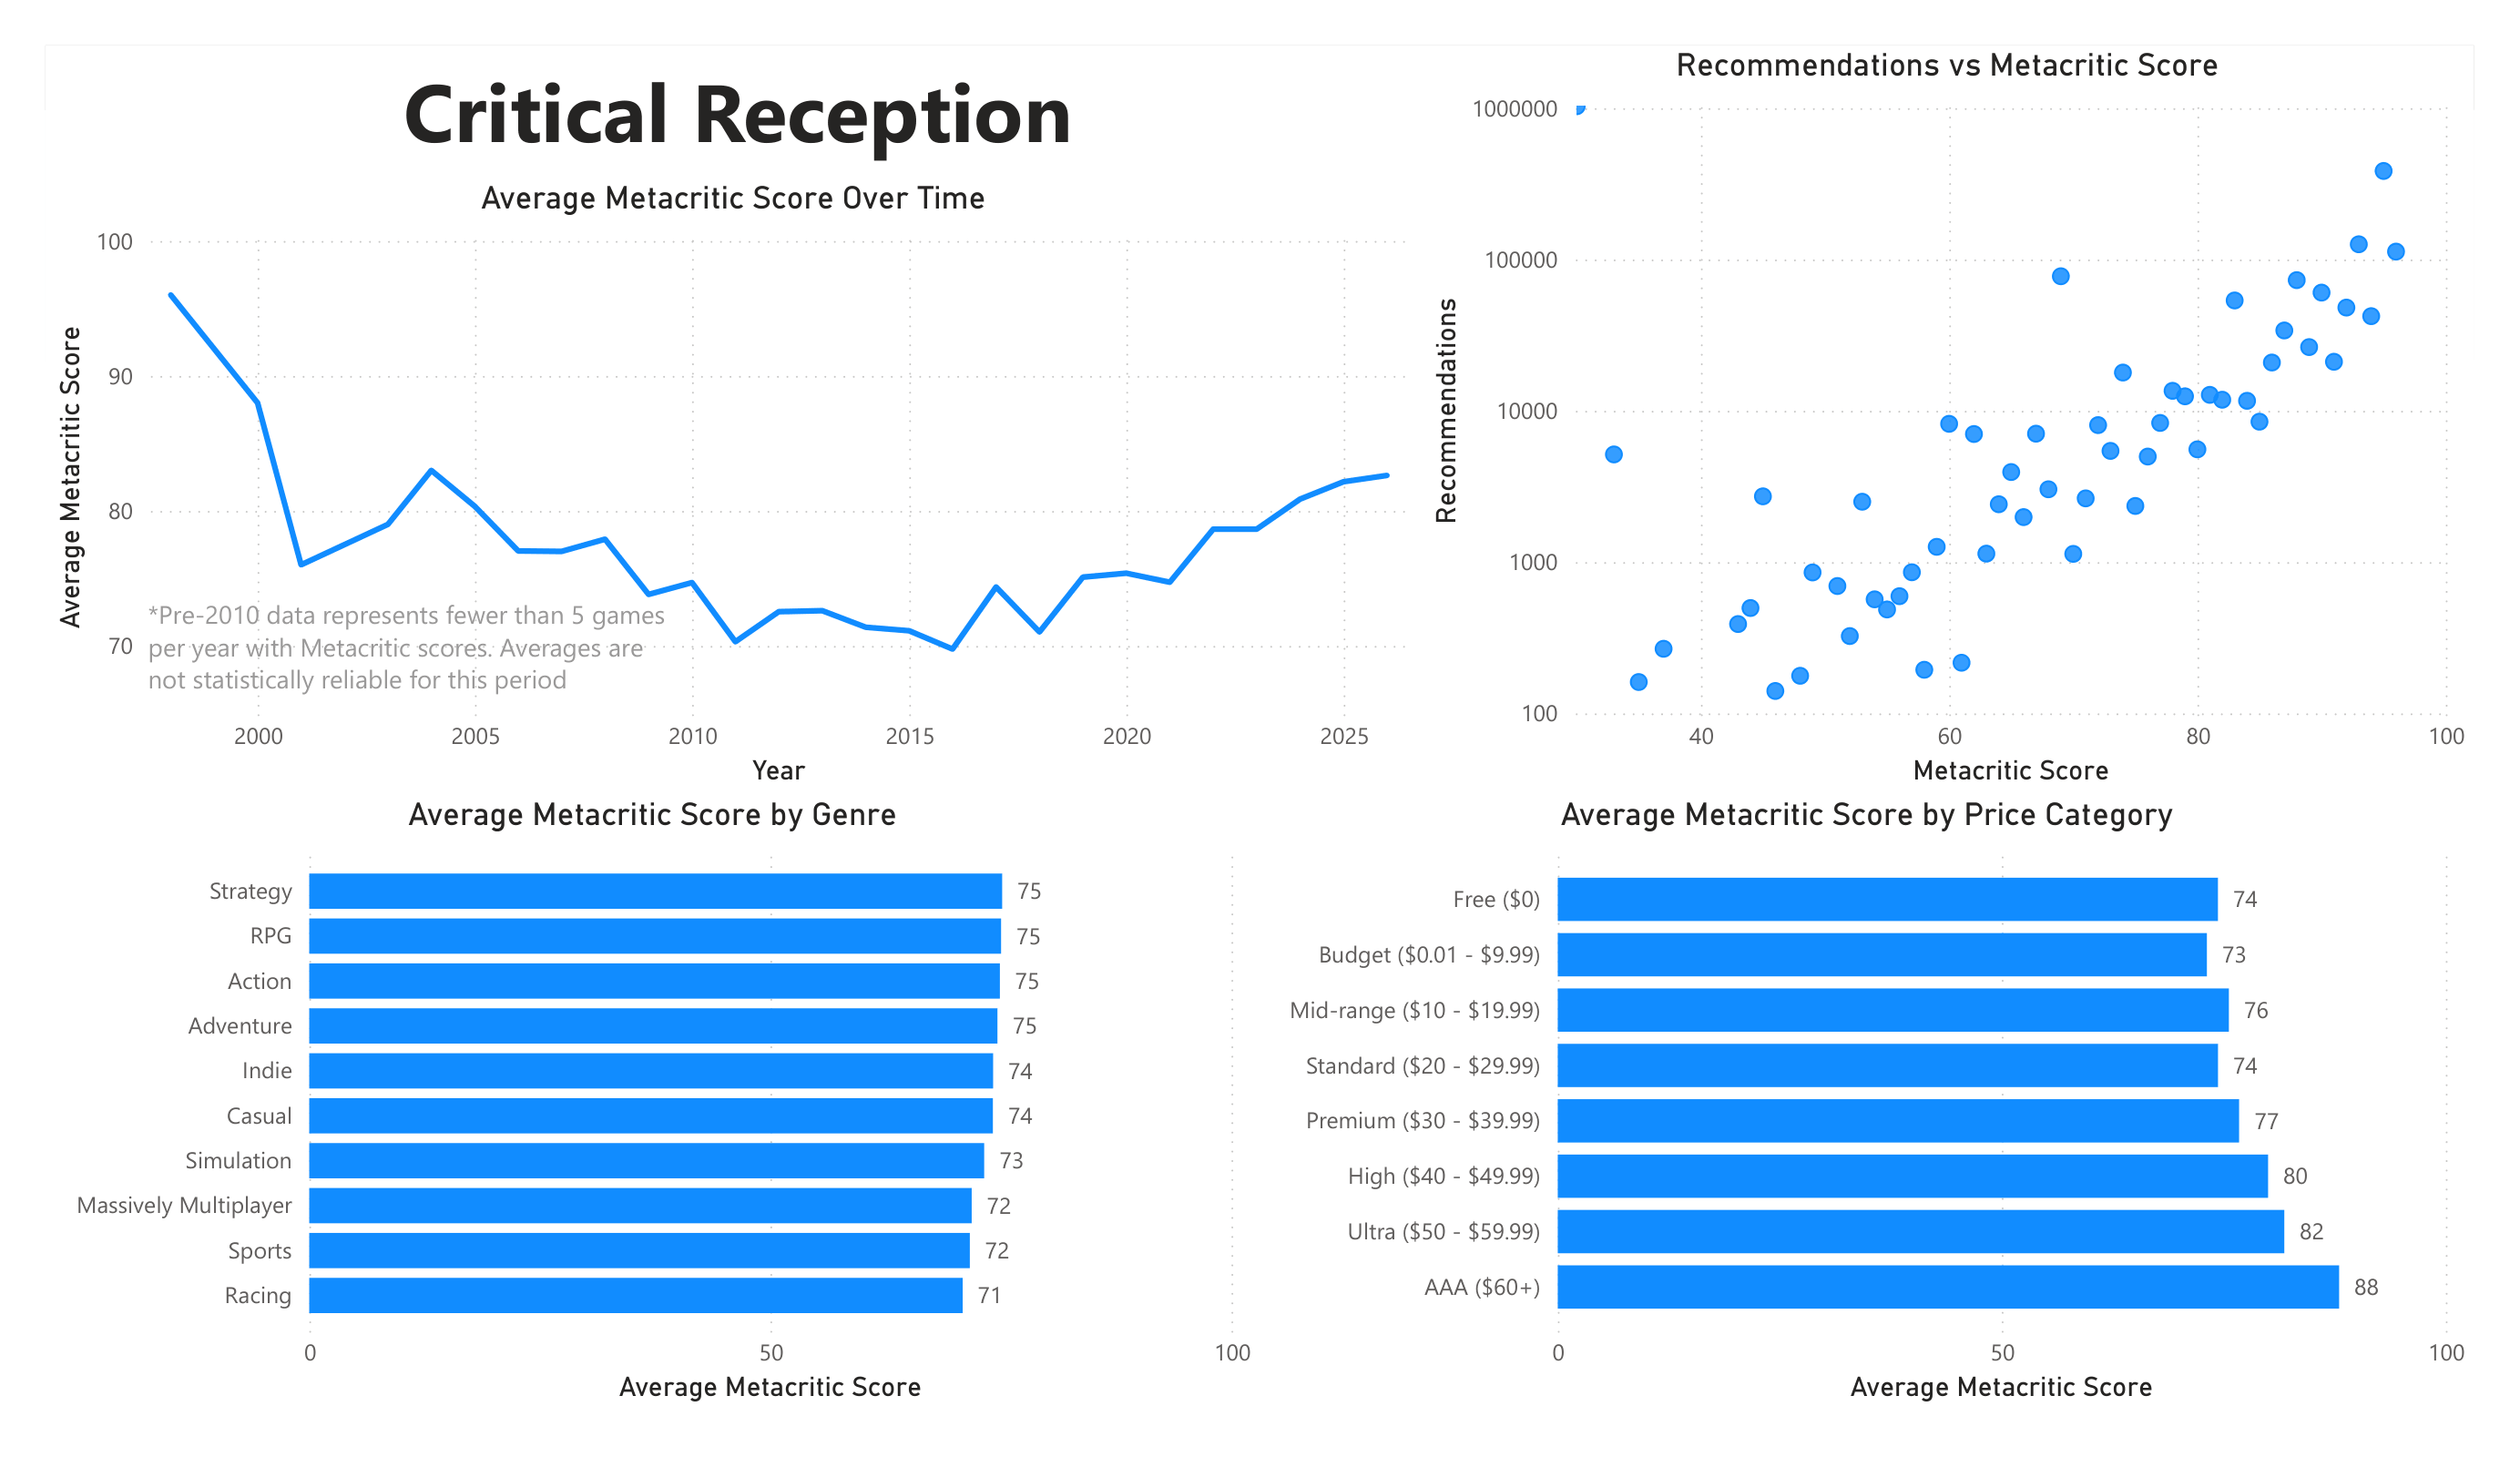

What the dashboard file says about the page in this screenshot:
{"tool":"powerbi","page":{"name":"Critical Reception","canvas":[1280,720],"ordinal":2},"visuals":[{"type":"textbox","box":[0,0,730,70.1],"z":0},{"type":"barChart","title":"Average Metacritic Score by Genre","fields":{"Category":["public games_genre.genre"],"Y":["Avg(public games.metacritic)"]},"box":[0,394.9,640,324.9],"z":1000},{"type":"barChart","title":"Average Metacritic Score by Price Category","fields":{"Category":["public games.price_category"],"Y":["Avg(public games.metacritic)"]},"box":[640,394.9,640,324.9],"z":2000},{"type":"lineChart","title":"Average Metacritic Score Over Time","fields":{"Y":["Avg(public games.metacritic)"],"Category":["public games.release_date.Variation.Date Hierarchy.Year"]},"box":[0,70,724.6,325],"z":3000},{"type":"scatterChart","title":"Recommendations vs Metacritic Score","fields":{"X":["public games.metacritic"],"Y":["Avg(public games.recommendations)"]},"box":[724.6,0,555.4,394.9],"z":4000},{"type":"textbox","box":[48.6,286,291.8,64.2],"z":4001}]}

Visuals, with their boxes on the page's 1280x720 design canvas (x1, y1, x2, y2). These are canvas units, not pixel positions in the 2520x1457 screenshot, which may show the page scaled, cropped or inside an application window:
textbox: {"left": 0, "top": 0, "right": 730, "bottom": 70}
"Average Metacritic Score by Genre" barChart: {"left": 0, "top": 395, "right": 640, "bottom": 720}
"Average Metacritic Score by Price Category" barChart: {"left": 640, "top": 395, "right": 1280, "bottom": 720}
"Average Metacritic Score Over Time" lineChart: {"left": 0, "top": 70, "right": 725, "bottom": 395}
"Recommendations vs Metacritic Score" scatterChart: {"left": 725, "top": 0, "right": 1280, "bottom": 395}
textbox: {"left": 49, "top": 286, "right": 340, "bottom": 350}
